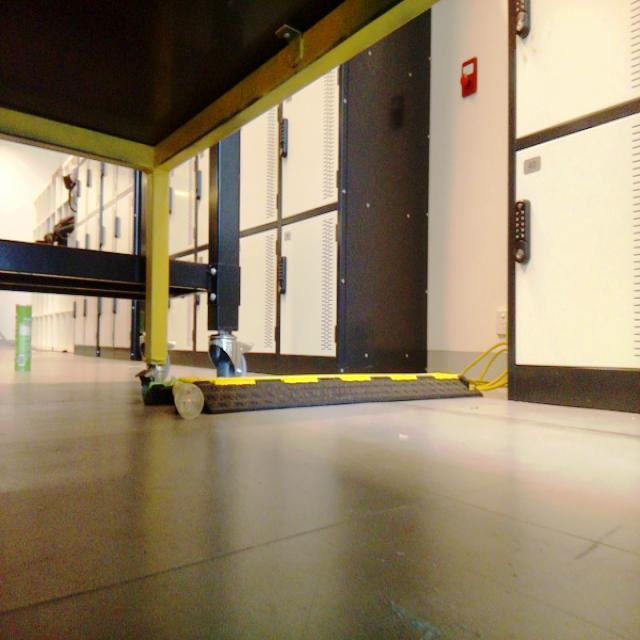greenpringles: (8, 290, 42, 390)
